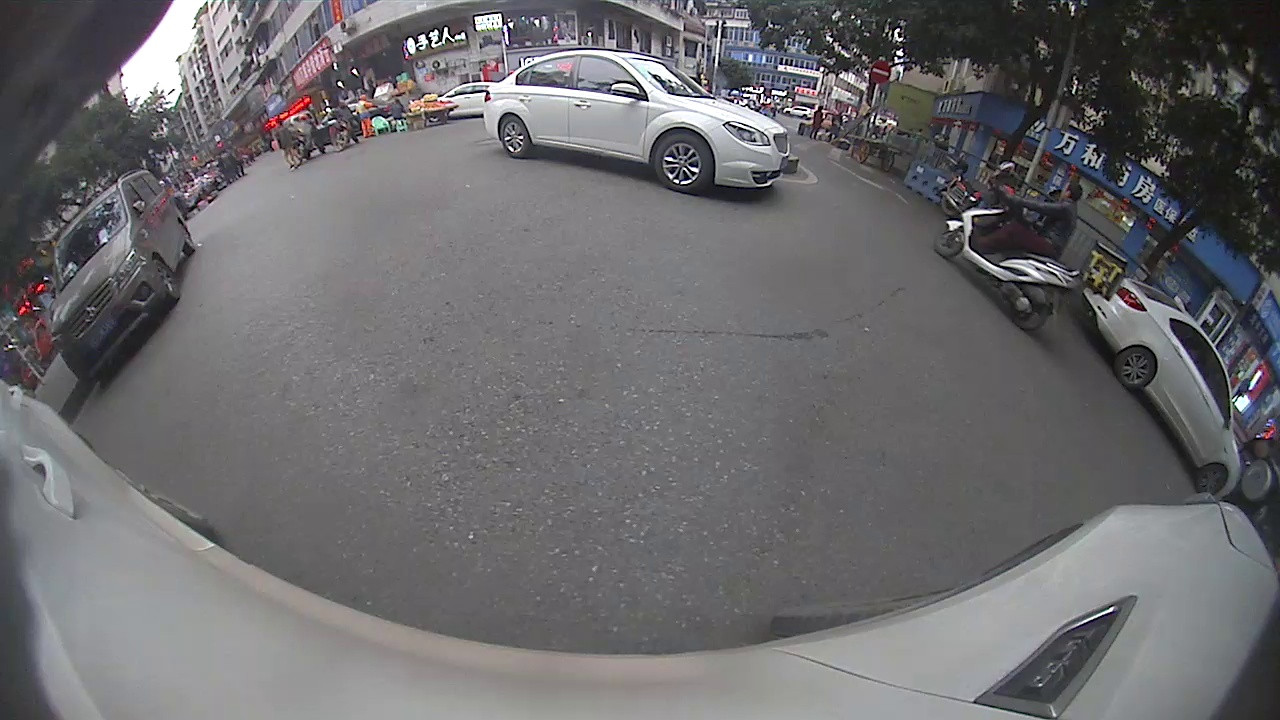car: (482, 48, 793, 199), (1083, 274, 1243, 505), (46, 168, 196, 389)
front: (648, 128, 713, 189), (145, 258, 184, 301), (1195, 463, 1230, 500), (935, 225, 965, 258)
rear: (1004, 293, 1047, 333), (1117, 347, 1157, 389), (499, 115, 531, 158), (176, 219, 201, 256), (939, 192, 960, 219)
rider: (933, 142, 1083, 332)
